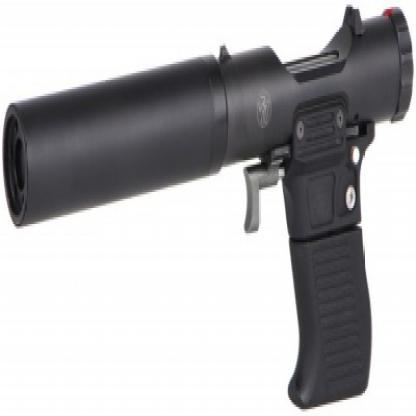Guns: (0, 0, 415, 414)
